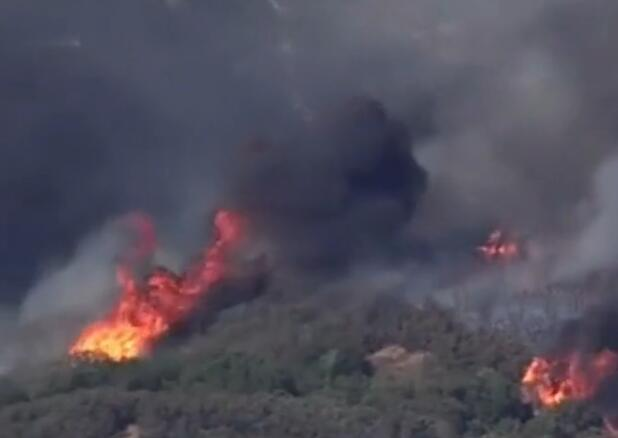fire: (67, 210, 243, 364), (524, 344, 616, 408), (481, 231, 523, 259)
smoke: (0, 0, 618, 308)
